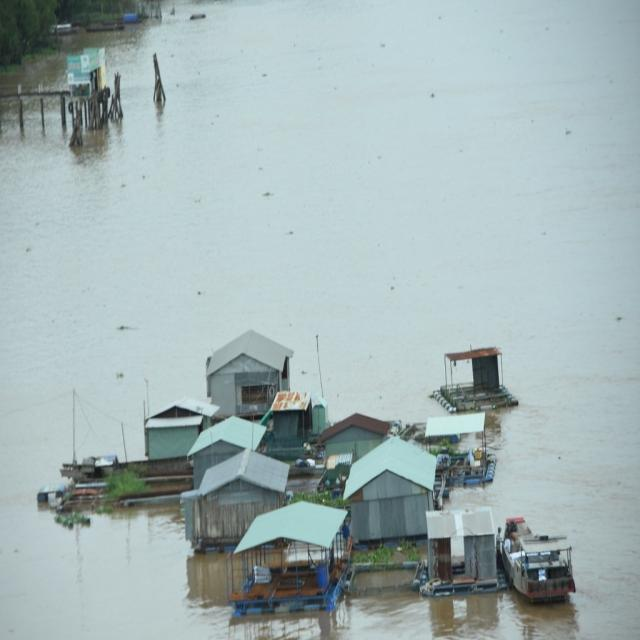Raft: (226, 506, 355, 612), (424, 504, 500, 598), (435, 350, 523, 422)
boat: (492, 526, 586, 602)
